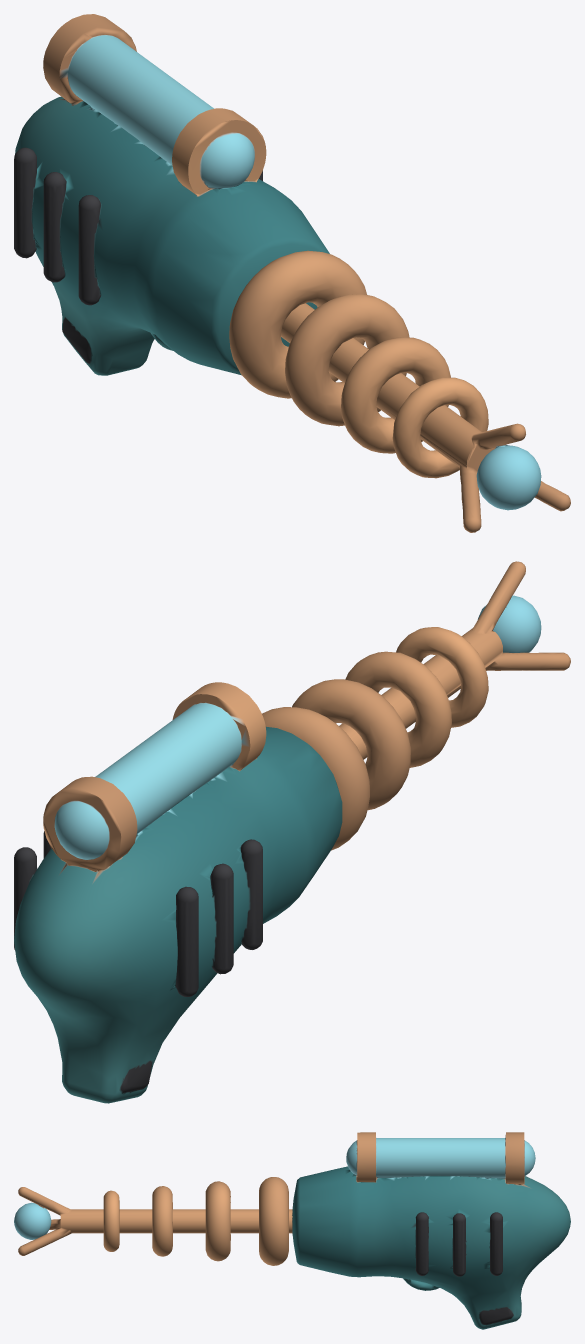
File: electro-gun.glb
The picture shows the model from 3 angles, top to bottom: view 1: azimuth 30°, elevation 25°; view 2: azimuth 150°, elevation 25°; view 3: azimuth 270°, elevation 25°; orthographic projection. The views are drawn at different scales.
Parts seen in each view (by area): view 1: body; view 2: body; view 3: body.
Boxes of the visible parts, left/top/right/bottom form: body: left=14, top=14, right=570, bottom=532; body: left=14, top=561, right=570, bottom=1103; body: left=14, top=1132, right=570, bottom=1329.
Bounding box in the file's own units: 0.134 × 0.226 × 0.6004.
